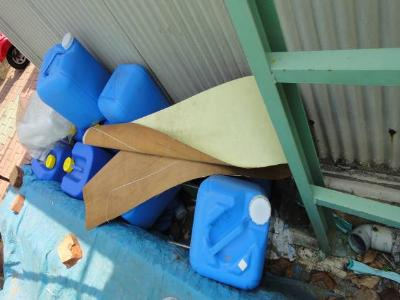bucket: (188, 172, 273, 292), (35, 31, 113, 129)
